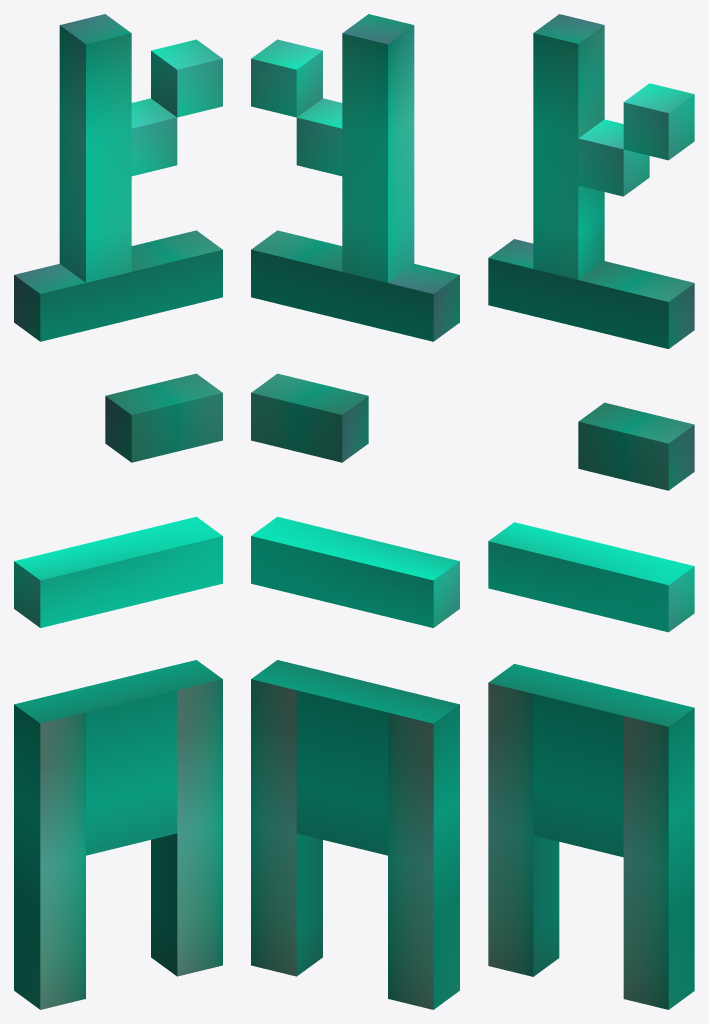
The model's file is BillboardModule_ChineseSymbol_P_00.fbx.
The picture shows the model from 3 angles, left to right: view 1: azimuth 30°, elevation 25°; view 2: azimuth 150°, elevation 25°; view 3: azimuth 330°, elevation 25°; orthographic projection.
Visible parts, largest first — view 1: BillboardModule_ChineseSymbol_P_00; view 2: BillboardModule_ChineseSymbol_P_00; view 3: BillboardModule_ChineseSymbol_P_00.
Part boxes in pixels (box(x1,y1,x2,y2)): BillboardModule_ChineseSymbol_P_00: box(14, 14, 222, 1009); BillboardModule_ChineseSymbol_P_00: box(251, 14, 459, 1009); BillboardModule_ChineseSymbol_P_00: box(488, 14, 694, 1009).
Size of the model in its own units: 20 by 100 by 5.
